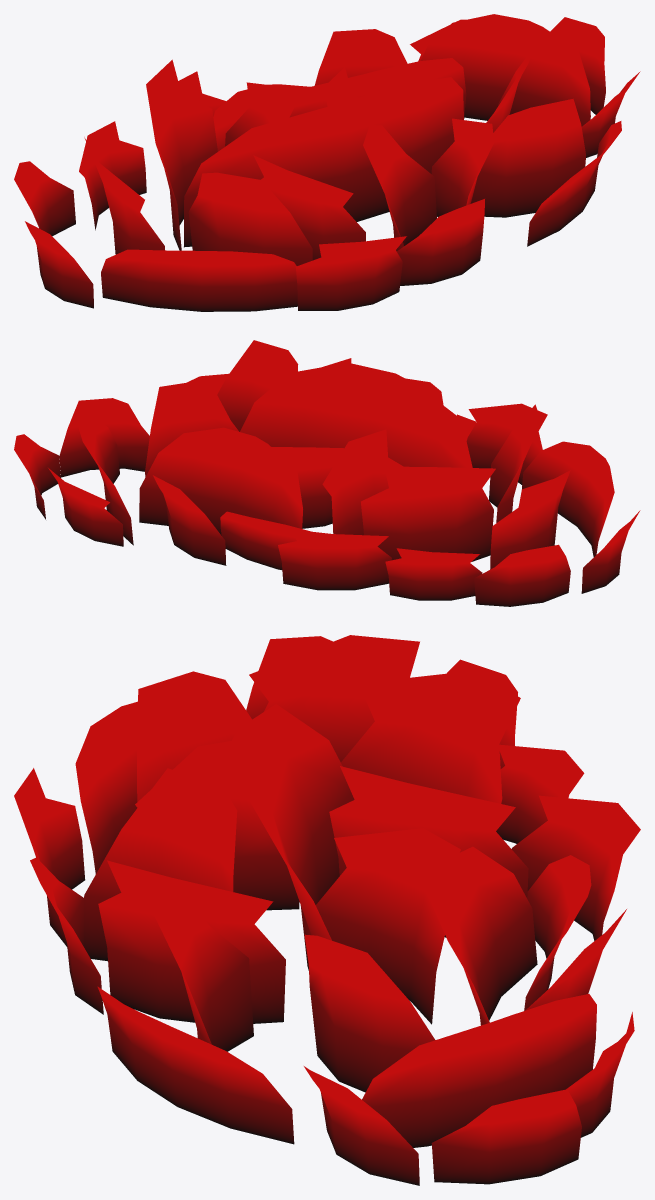
File: Medium_Grass.FBX
The picture shows the model from 3 angles, top to bottom: view 1: azimuth 30°, elevation 25°; view 2: azimuth 150°, elevation 25°; view 3: azimuth 270°, elevation 25°; orthographic projection. The views are drawn at different scales.
Visible parts, largest first — view 1: Grass008, Grass010, Grass009, Grass_031, Grass_021, Grass_039, Grass_022, Grass_038, Grass_020, Grass_036, Grass_024, Grass_027 (+13 smaller); view 2: Grass008, Grass006, Grass_022, Grass_029, Grass009, Grass_035, Grass_030, Grass_027, Grass_026, Grass_025, Grass_034, Grass_031 (+9 smaller); view 3: Grass010, Grass_022, Grass_037, Grass_024, Grass008, Grass_020, Grass007, Grass_025, Grass006, Grass_034, Grass_032, Grass_030 (+14 smaller).
Part boxes in pixels (x1,y1,x2,y2): Grass008: (184, 77, 463, 247); Grass010: (420, 14, 590, 126); Grass009: (101, 249, 297, 311); Grass_031: (470, 98, 585, 217); Grass_021: (188, 172, 312, 265); Grass_039: (295, 236, 406, 310); Grass_022: (146, 59, 217, 250); Grass_038: (397, 199, 484, 285); Grass_020: (363, 125, 436, 251); Grass_036: (253, 155, 365, 260); Grass_024: (431, 118, 494, 216); Grass_027: (79, 121, 146, 230); Grass008: (240, 362, 472, 467); Grass006: (139, 427, 302, 535); Grass_022: (361, 466, 495, 561); Grass_029: (278, 529, 391, 590); Grass009: (522, 441, 614, 557); Grass_035: (474, 544, 570, 606); Grass_030: (322, 429, 403, 535); Grass_027: (385, 548, 482, 600); Grass_026: (59, 398, 149, 477); Grass_025: (145, 381, 238, 476); Grass_034: (490, 470, 570, 569); Grass_031: (217, 340, 298, 431); Grass010: (362, 994, 596, 1147); Grass_022: (341, 671, 520, 803); Grass_037: (316, 828, 460, 1024); Grass_024: (98, 860, 285, 1023); Grass008: (232, 704, 354, 970); Grass_020: (84, 768, 237, 961); Grass007: (97, 986, 294, 1144); Grass_025: (304, 934, 435, 1092); Grass006: (428, 846, 537, 1025); Grass_034: (249, 635, 419, 762); Grass_032: (431, 1089, 581, 1184); Grass_030: (329, 766, 528, 937).
Size of the model in its own units: 151 by 34.3 by 88.46.
